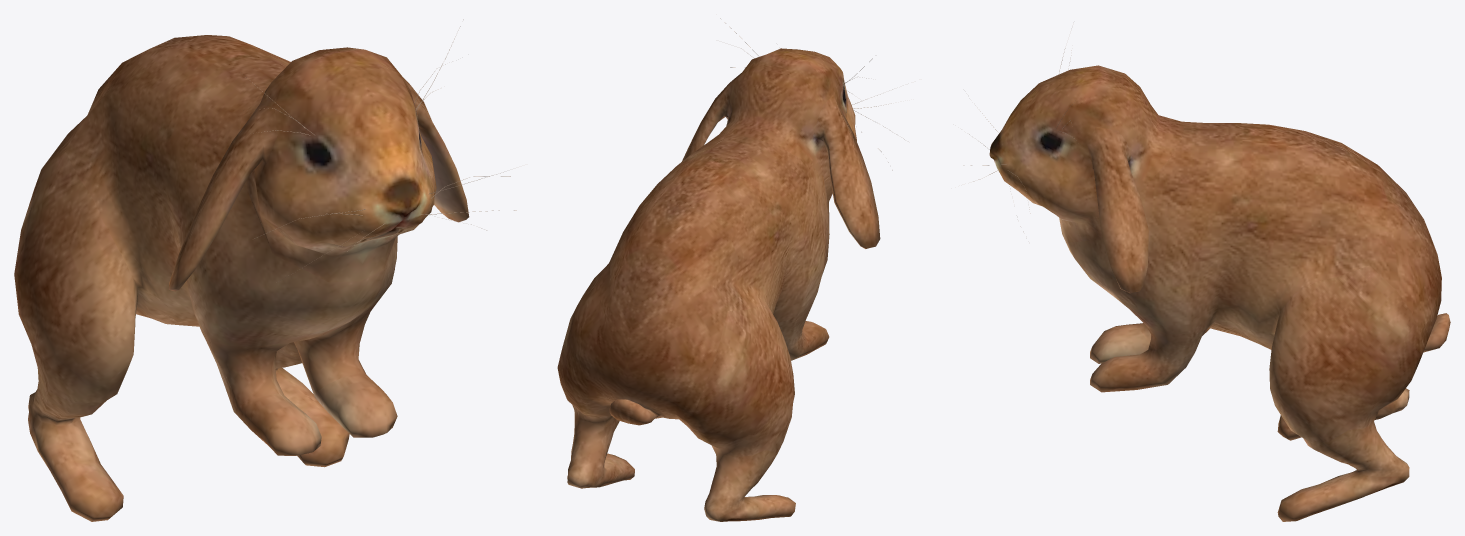
Rendered from usagi.glb.
3 views of the same model, side by side, from view 1: azimuth 30°, elevation 25°; view 2: azimuth 150°, elevation 25°; view 3: azimuth 270°, elevation 25° (orthographic). The views are drawn at different scales.
Visible parts, largest first — view 1: Object_7; view 2: Object_7; view 3: Object_7.
Boxes of the visible parts, x1,y1,x2,y2 form: Object_7: (14, 19, 516, 521); Object_7: (557, 18, 904, 521); Object_7: (963, 48, 1450, 521).
Bounding box in the file's own units: 2.08 × 3.72 × 4.
1 material, 1 textured.
